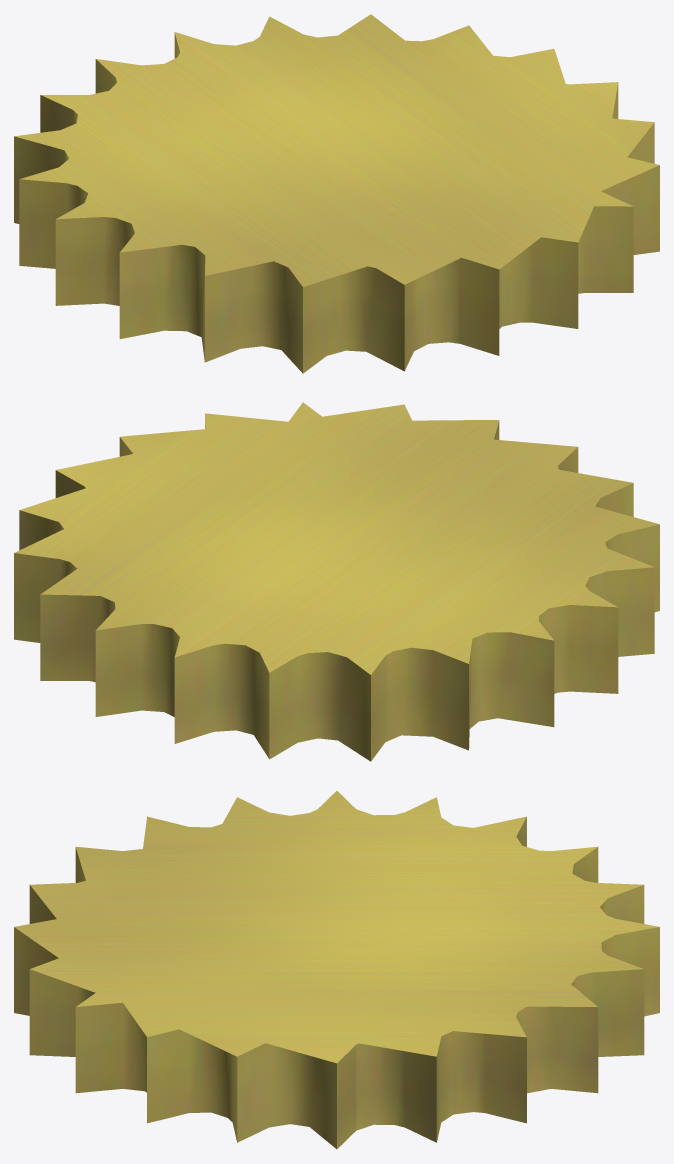
Rendered from Sprocket5Spoke020.fbx.
The picture shows the model from 3 angles, top to bottom: view 1: azimuth 30°, elevation 25°; view 2: azimuth 150°, elevation 25°; view 3: azimuth 270°, elevation 25°; orthographic projection.
Parts seen in each view (by area): view 1: Sprocket5Spoke020; view 2: Sprocket5Spoke020; view 3: Sprocket5Spoke020.
Boxes of the visible parts, x1,y1,x2,y2 form: Sprocket5Spoke020: [14, 14, 659, 373]; Sprocket5Spoke020: [14, 402, 659, 761]; Sprocket5Spoke020: [14, 791, 659, 1148].
Size of the model in its own units: 134 by 19.69 by 134.
